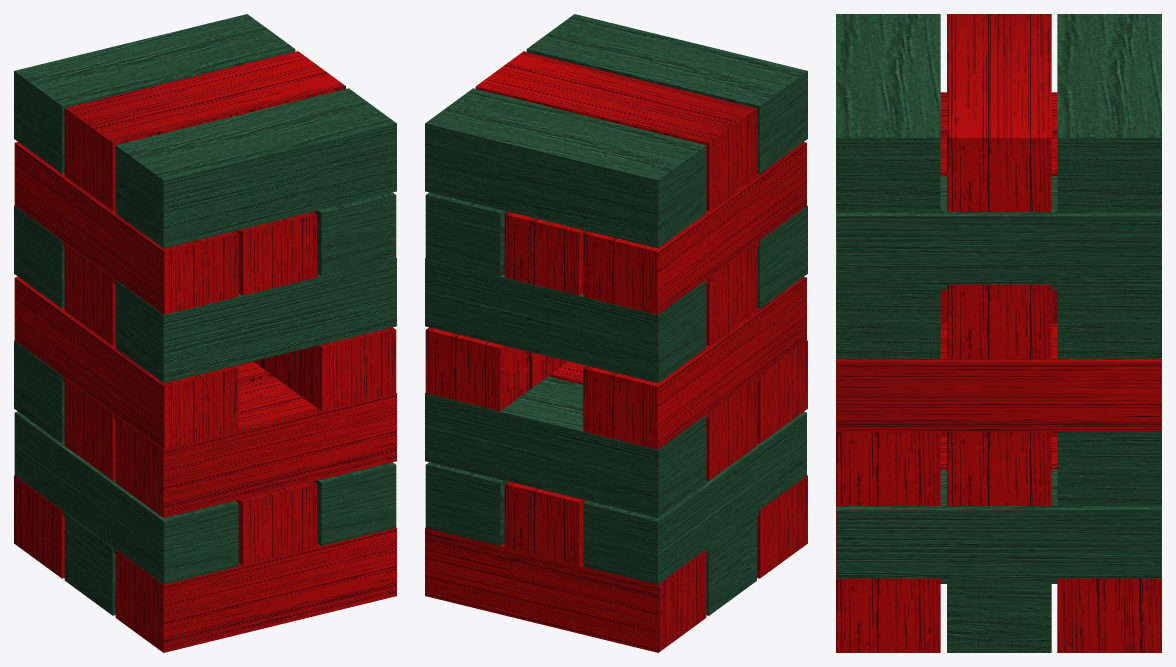
File: JengaFinal.glb
3 renders of one model, left to right at view 1: azimuth 30°, elevation 25°; view 2: azimuth 150°, elevation 25°; view 3: azimuth 270°, elevation 25°, orthographic. The views are drawn at different scales.
Visible parts, largest first — view 1: cube73, cube33, cube13, cube53, cube72, cube71, cube21, cube41, cube61, cube42, cube22, cube62 (+8 smaller); view 2: cube71, cube31, cube11, cube51, cube73, cube72, cube21, cube61, cube41, cube42, cube22, cube62 (+8 smaller); view 3: cube23, cube42, cube63, cube71, cube72, cube73, cube11, cube13, cube31, cube33, cube51, cube53 (+6 smaller).
Boxes of the visible parts, <box> form: cube73: <box>115,88,396,248</box>; cube33: <box>115,376,396,517</box>; cube13: <box>115,528,396,652</box>; cube53: <box>115,258,396,383</box>; cube72: <box>64,51,345,210</box>; cube71: <box>14,14,295,173</box>; cube21: <box>14,411,238,584</box>; cube41: <box>14,276,238,449</box>; cube61: <box>14,142,238,314</box>; cube42: <box>254,327,396,411</box>; cube22: <box>235,481,317,565</box>; cube62: <box>235,212,317,295</box>; cube71: <box>425,88,706,248</box>; cube31: <box>425,376,706,517</box>; cube11: <box>425,528,706,652</box>; cube51: <box>425,258,706,383</box>; cube73: <box>526,14,807,173</box>; cube72: <box>475,51,756,211</box>; cube21: <box>583,411,806,584</box>; cube61: <box>583,142,806,314</box>; cube41: <box>583,277,806,449</box>; cube42: <box>425,327,567,411</box>; cube22: <box>504,481,586,565</box>; cube62: <box>504,212,586,295</box>; cube23: <box>836,470,1161,583</box>; cube42: <box>836,323,1161,436</box>; cube63: <box>836,176,1161,289</box>; cube71: <box>1057,14,1161,211</box>; cube72: <box>947,14,1051,211</box>; cube73: <box>836,14,940,211</box>; cube11: <box>1057,506,1161,652</box>; cube13: <box>836,506,940,652</box>; cube31: <box>1057,359,1161,505</box>; cube33: <box>836,359,940,505</box>; cube51: <box>1057,212,1161,358</box>; cube53: <box>836,212,940,358</box>.
Size of what is drawn, in the model's own units: 1.3 by 2.51 by 1.44.
2 materials, 2 textured.
